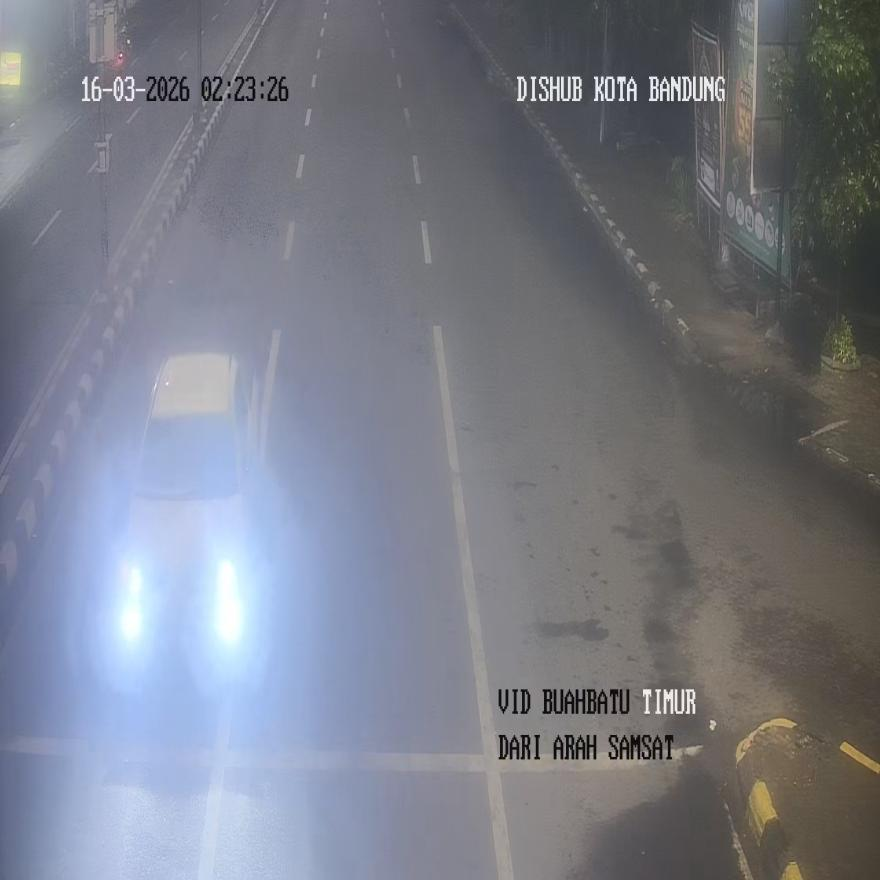Motor: (112, 348, 258, 688)
